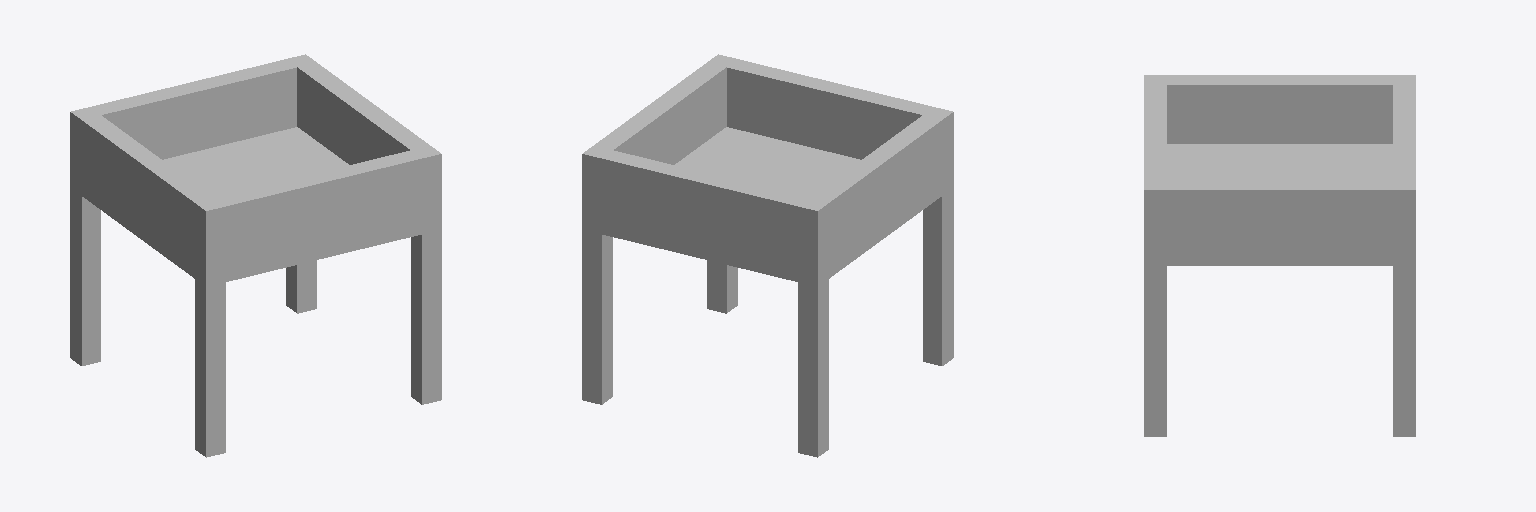
File: sieve_25.obj
3 views of the same model, side by side, from view 1: azimuth 30°, elevation 25°; view 2: azimuth 150°, elevation 25°; view 3: azimuth 270°, elevation 25° (orthographic).
Visible parts, largest first — view 1: Cube_Cube_+y, Cube_Cube_+x; view 2: Cube_Cube_+y, Cube_Cube_+x; view 3: Cube_Cube_+y, Cube_Cube_+x.
Part boxes in pixels (bbox=[...]): Cube_Cube_+y: bbox=[70, 54, 441, 457]; Cube_Cube_+x: bbox=[163, 127, 348, 197]; Cube_Cube_+y: bbox=[582, 54, 953, 457]; Cube_Cube_+x: bbox=[675, 127, 860, 197]; Cube_Cube_+y: bbox=[1144, 75, 1415, 436]; Cube_Cube_+x: bbox=[1167, 144, 1392, 180].
Bounding box in the file's own units: 1 × 1 × 1.